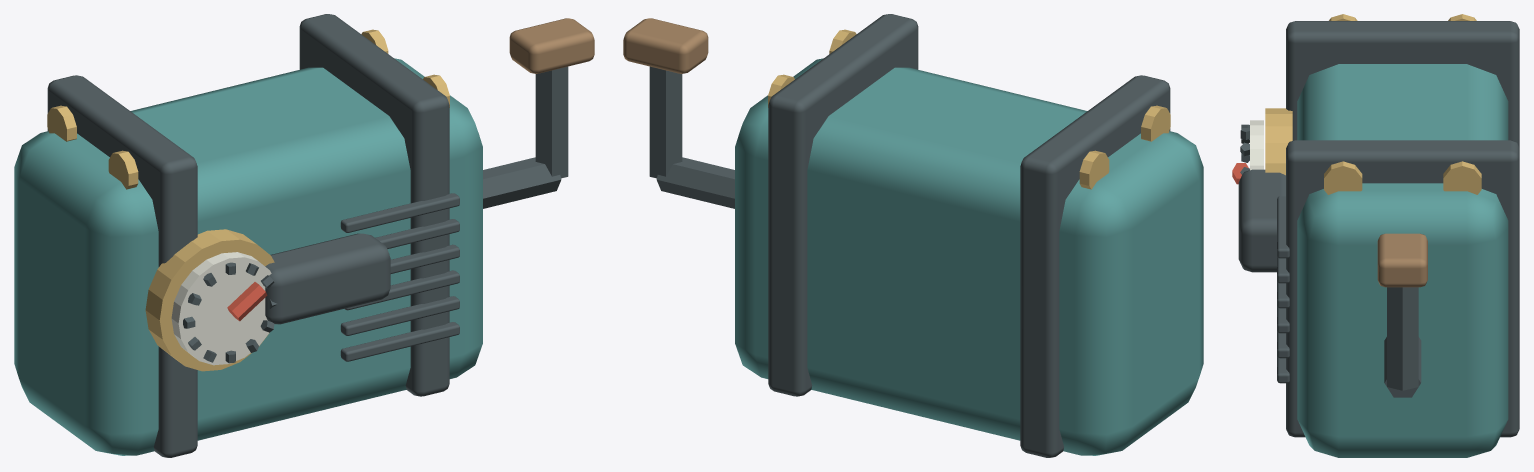
The model's file is castaway-island-escape-hand-crank-radio-6d4176c6__28058.glb.
3 views of the same model, side by side, from view 1: azimuth 30°, elevation 25°; view 2: azimuth 150°, elevation 25°; view 3: azimuth 270°, elevation 25° (orthographic). The views are drawn at different scales.
Visible parts, largest first — view 1: hand-crank-radio-teal, hand-crank-radio-iron, hand-crank-radio-brass, hand-crank-radio-ivory, hand-crank-radio-wood, hand-crank-radio-red; view 2: hand-crank-radio-teal, hand-crank-radio-iron, hand-crank-radio-wood, hand-crank-radio-brass; view 3: hand-crank-radio-teal, hand-crank-radio-iron, hand-crank-radio-brass, hand-crank-radio-wood, hand-crank-radio-ivory.
Part boxes in pixels (x1=…): hand-crank-radio-teal: x1=14, y1=58, x2=482, y2=455; hand-crank-radio-iron: x1=47, y1=14, x2=568, y2=457; hand-crank-radio-brass: x1=47, y1=29, x2=449, y2=371; hand-crank-radio-ivory: x1=171, y1=252, x2=271, y2=365; hand-crank-radio-wood: x1=509, y1=18, x2=594, y2=73; hand-crank-radio-red: x1=227, y1=282, x2=267, y2=321; hand-crank-radio-teal: x1=735, y1=58, x2=1203, y2=455; hand-crank-radio-iron: x1=649, y1=14, x2=1170, y2=457; hand-crank-radio-wood: x1=623, y1=18, x2=708, y2=73; hand-crank-radio-brass: x1=768, y1=29, x2=1170, y2=189; hand-crank-radio-teal: x1=1297, y1=64, x2=1508, y2=457; hand-crank-radio-iron: x1=1238, y1=21, x2=1519, y2=437; hand-crank-radio-brass: x1=1265, y1=14, x2=1481, y2=194; hand-crank-radio-wood: x1=1377, y1=233, x2=1427, y2=287; hand-crank-radio-ivory: x1=1250, y1=120, x2=1263, y2=170.
Bounding box in the file's own units: 0.65 × 0.355 × 0.3135.
